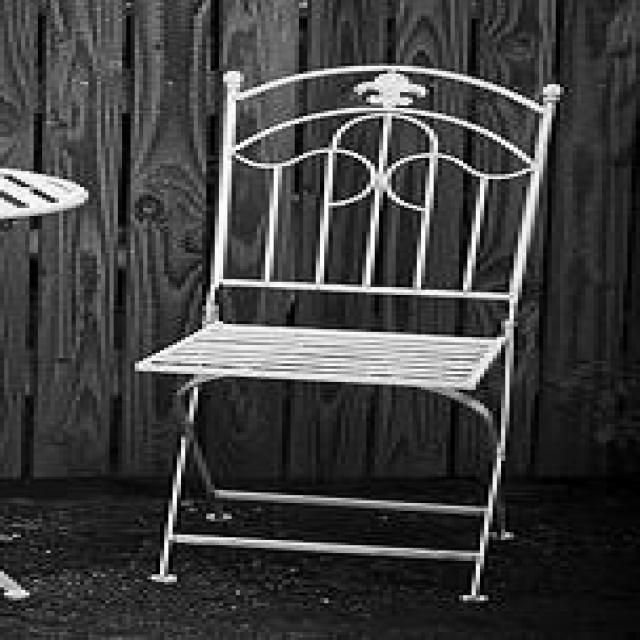chair: (134, 54, 560, 602)
